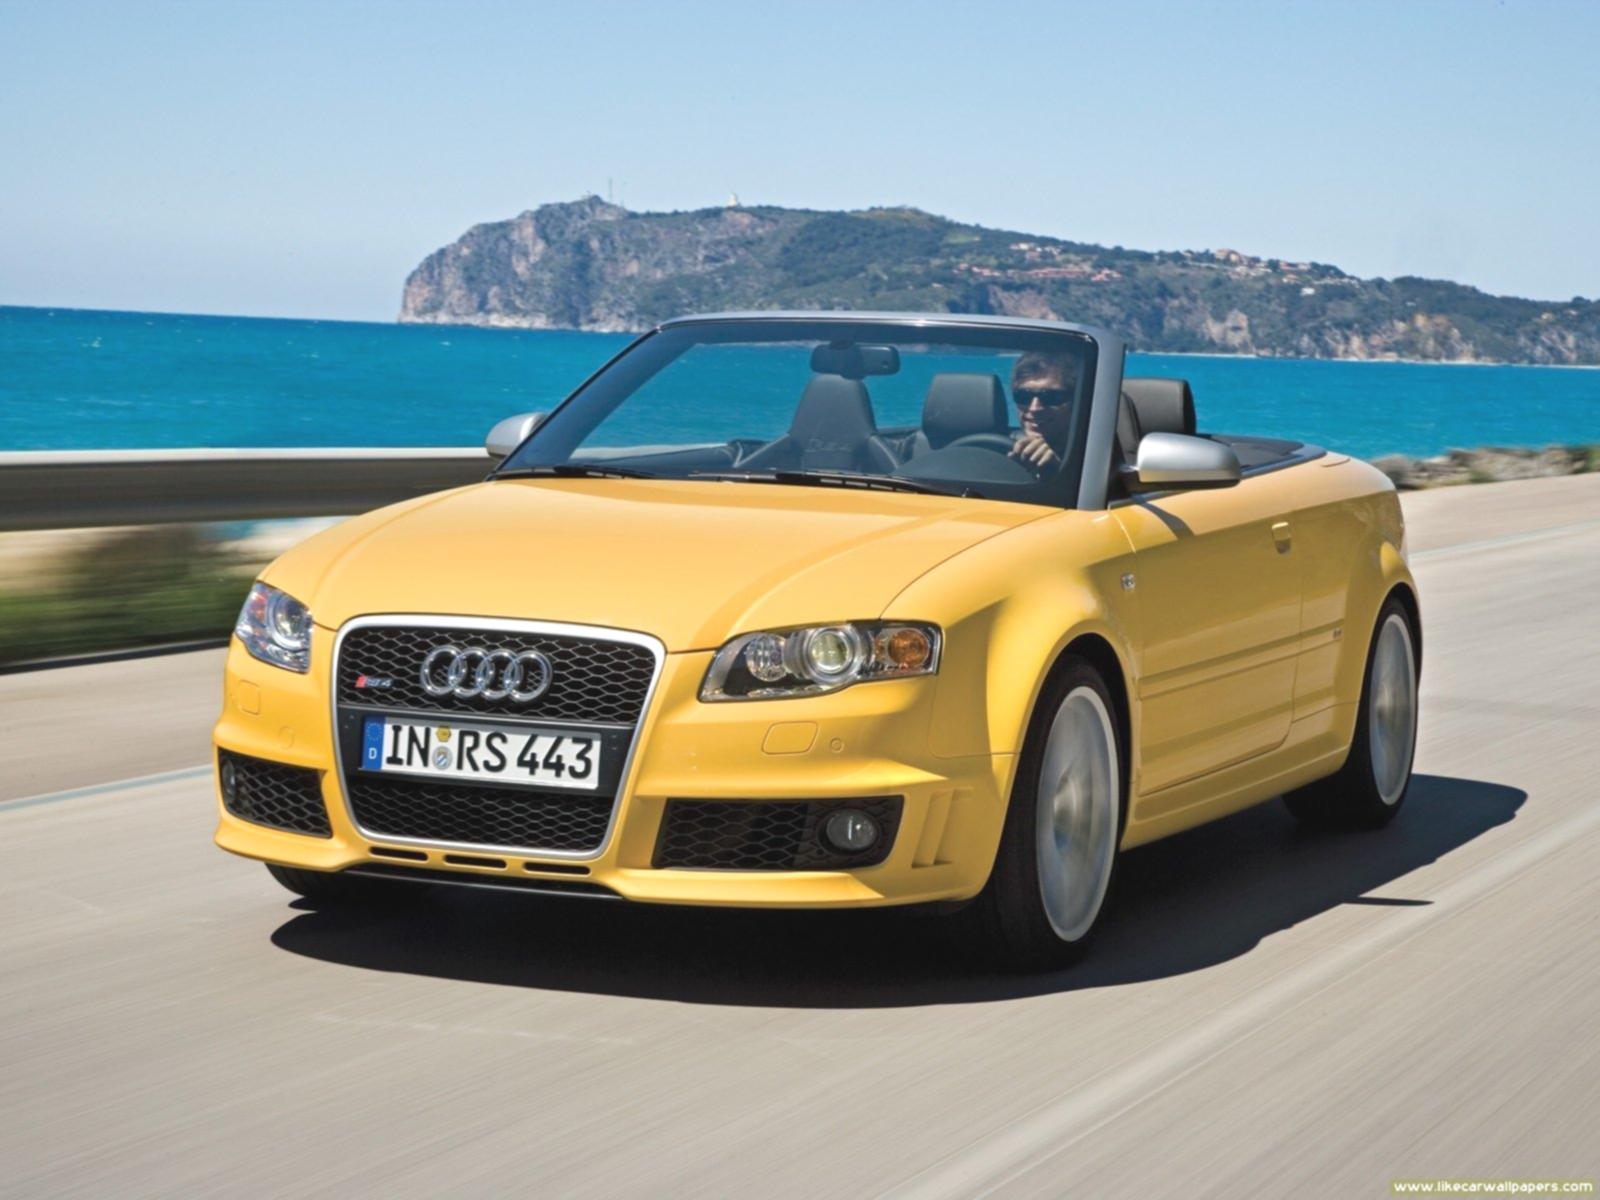Audi: (399, 628, 578, 716)
